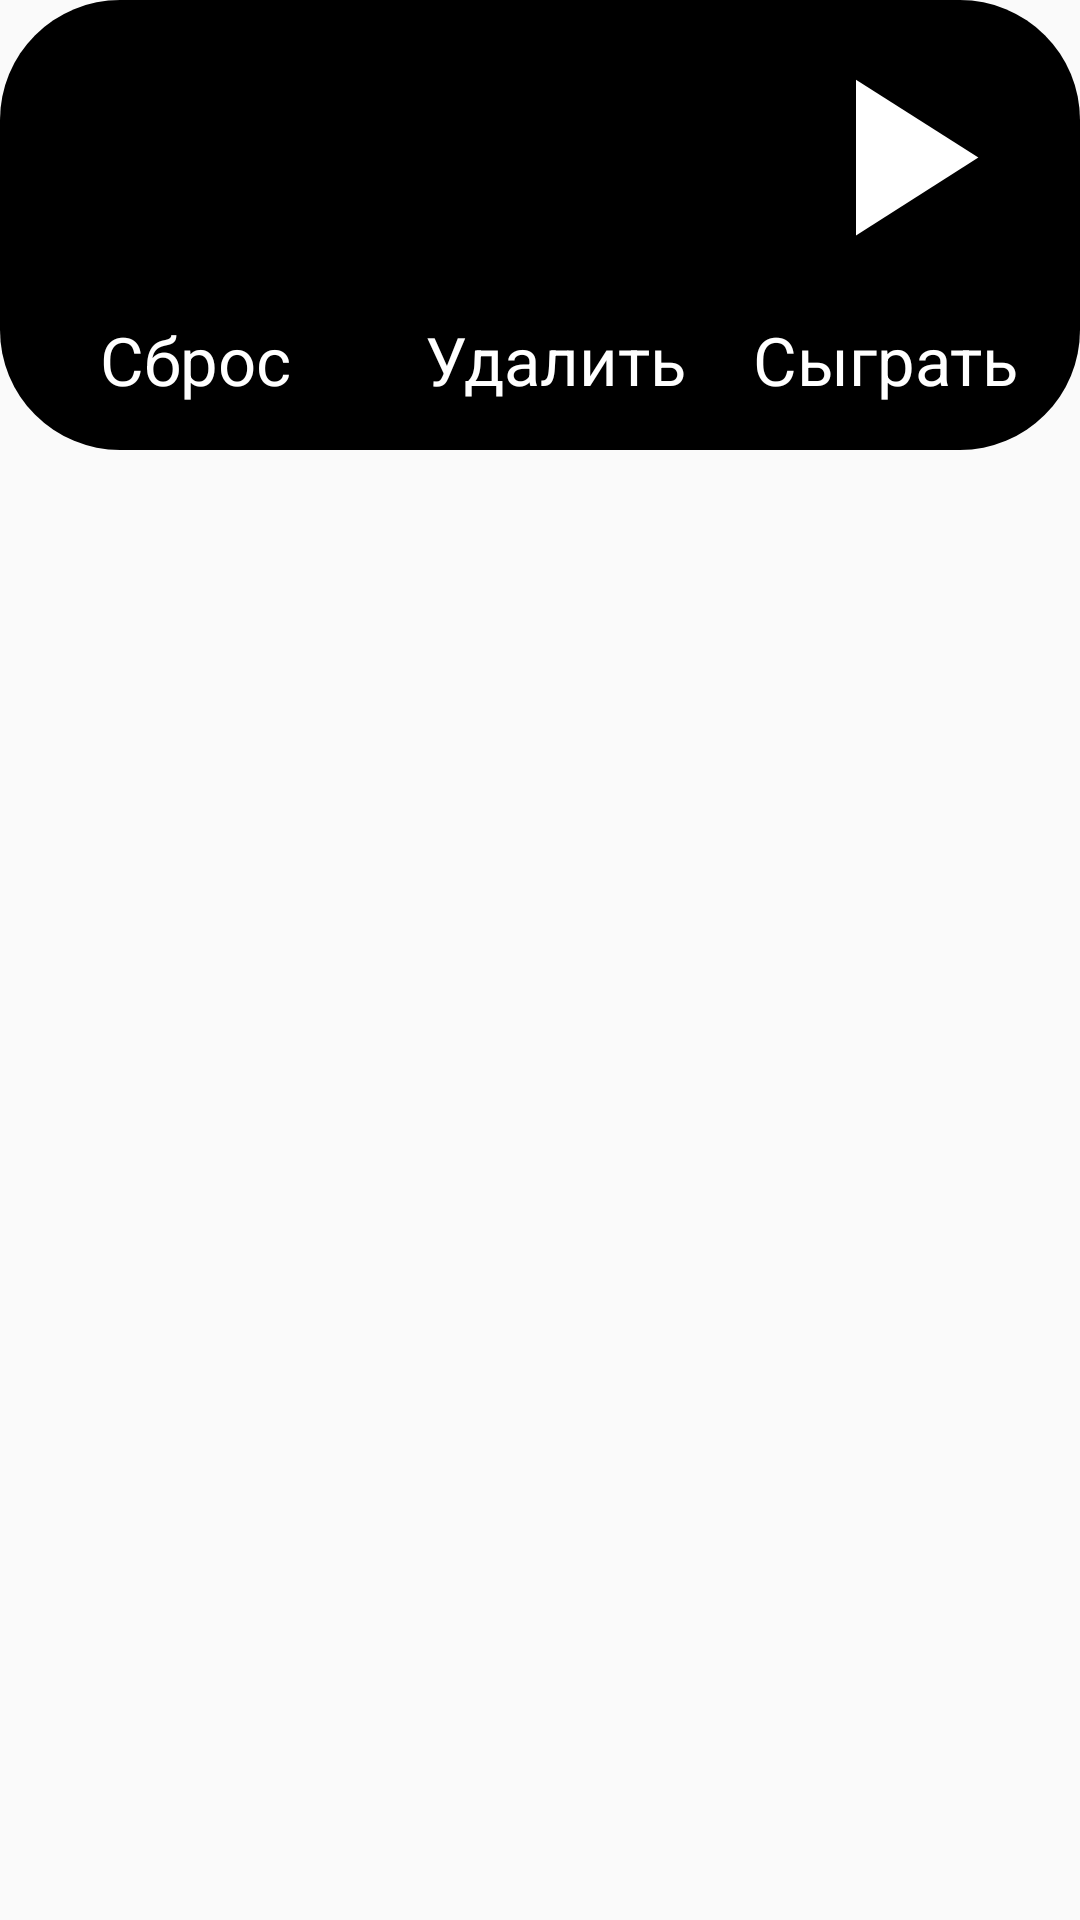

Screen size 1080w x 1920h. Icon name, then its center in pixels as (x=x, y=y):
play: (x=968, y=118)
